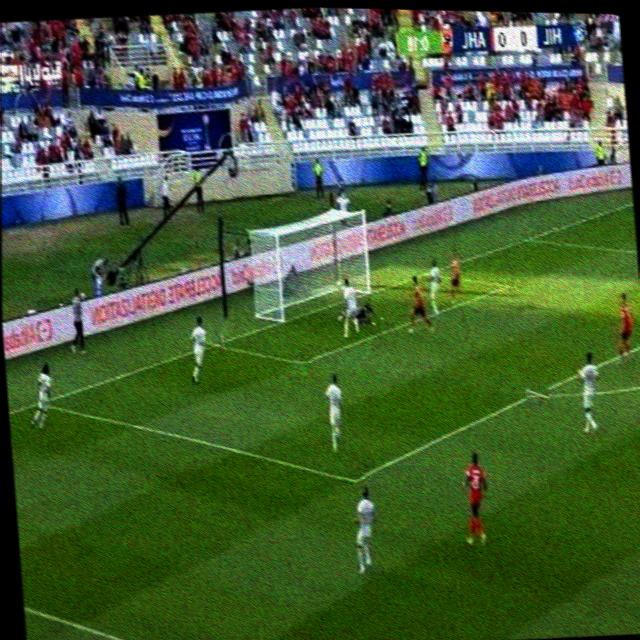bigarea_bottom_inner: (339, 463, 366, 494)
bigarea_top_outter: (520, 226, 540, 247)
bottom_arc_area_intersection: (524, 378, 549, 406)
corner: (629, 192, 633, 206)
smallarea_bottom_inner: (292, 346, 312, 374)
smallarea_bottom_outter: (205, 332, 224, 354)
smallarea_top_inner: (492, 272, 520, 298)
